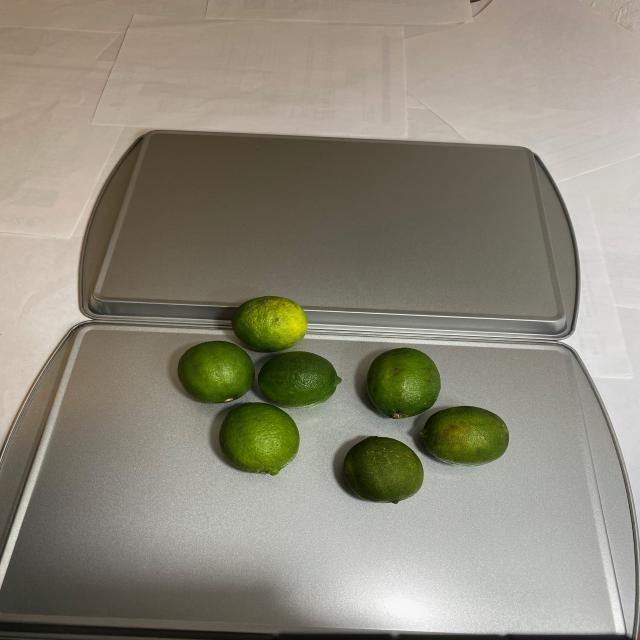lemon: (180, 295, 513, 501)
